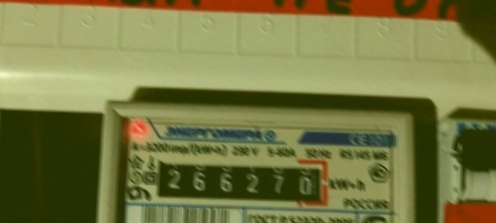0: (298, 173, 310, 195)
2: (166, 166, 181, 188), (245, 171, 257, 192)
6: (192, 170, 205, 190), (218, 171, 231, 190)
7: (270, 172, 283, 194)
screen: (146, 148, 335, 213)
